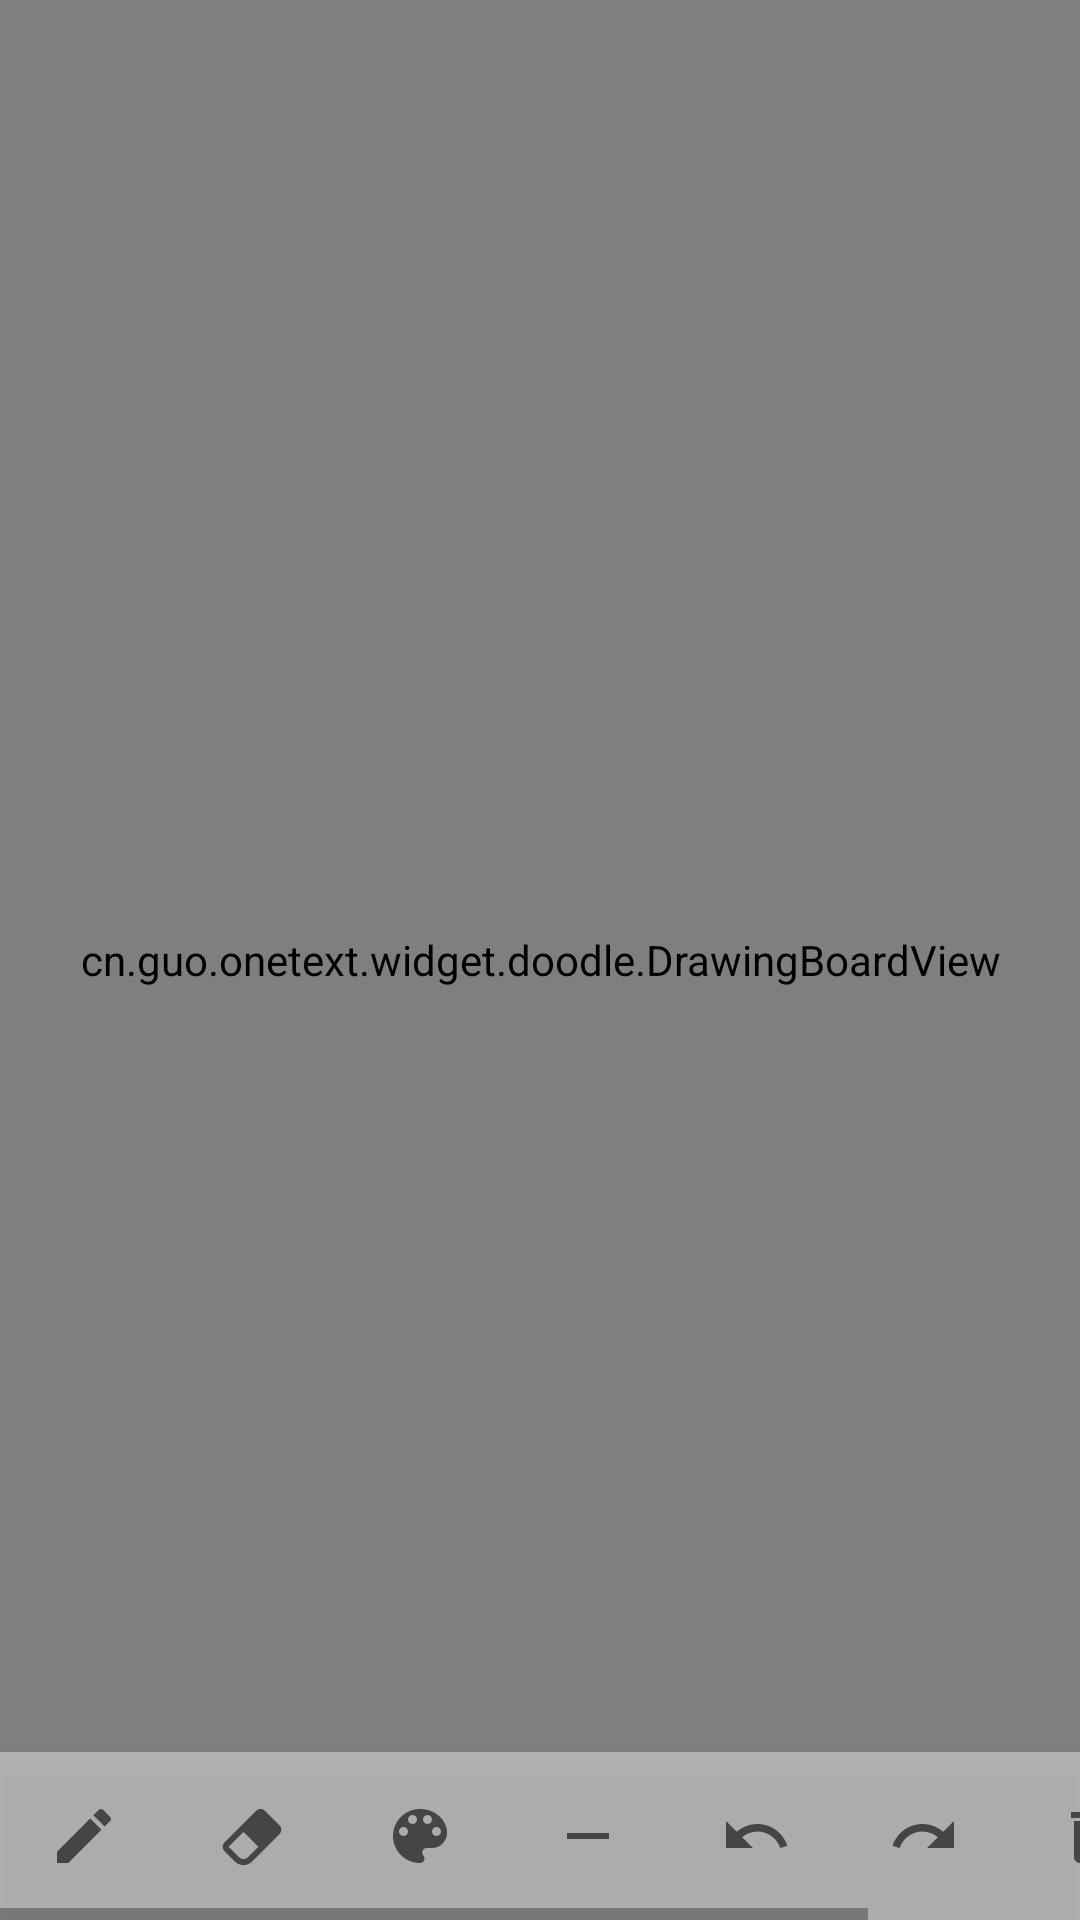

Icons on this 1080w x 1920h Android screen, each with the point to tap as point (x, y):
edit: point (84, 1836)
redo: point (923, 1834)
